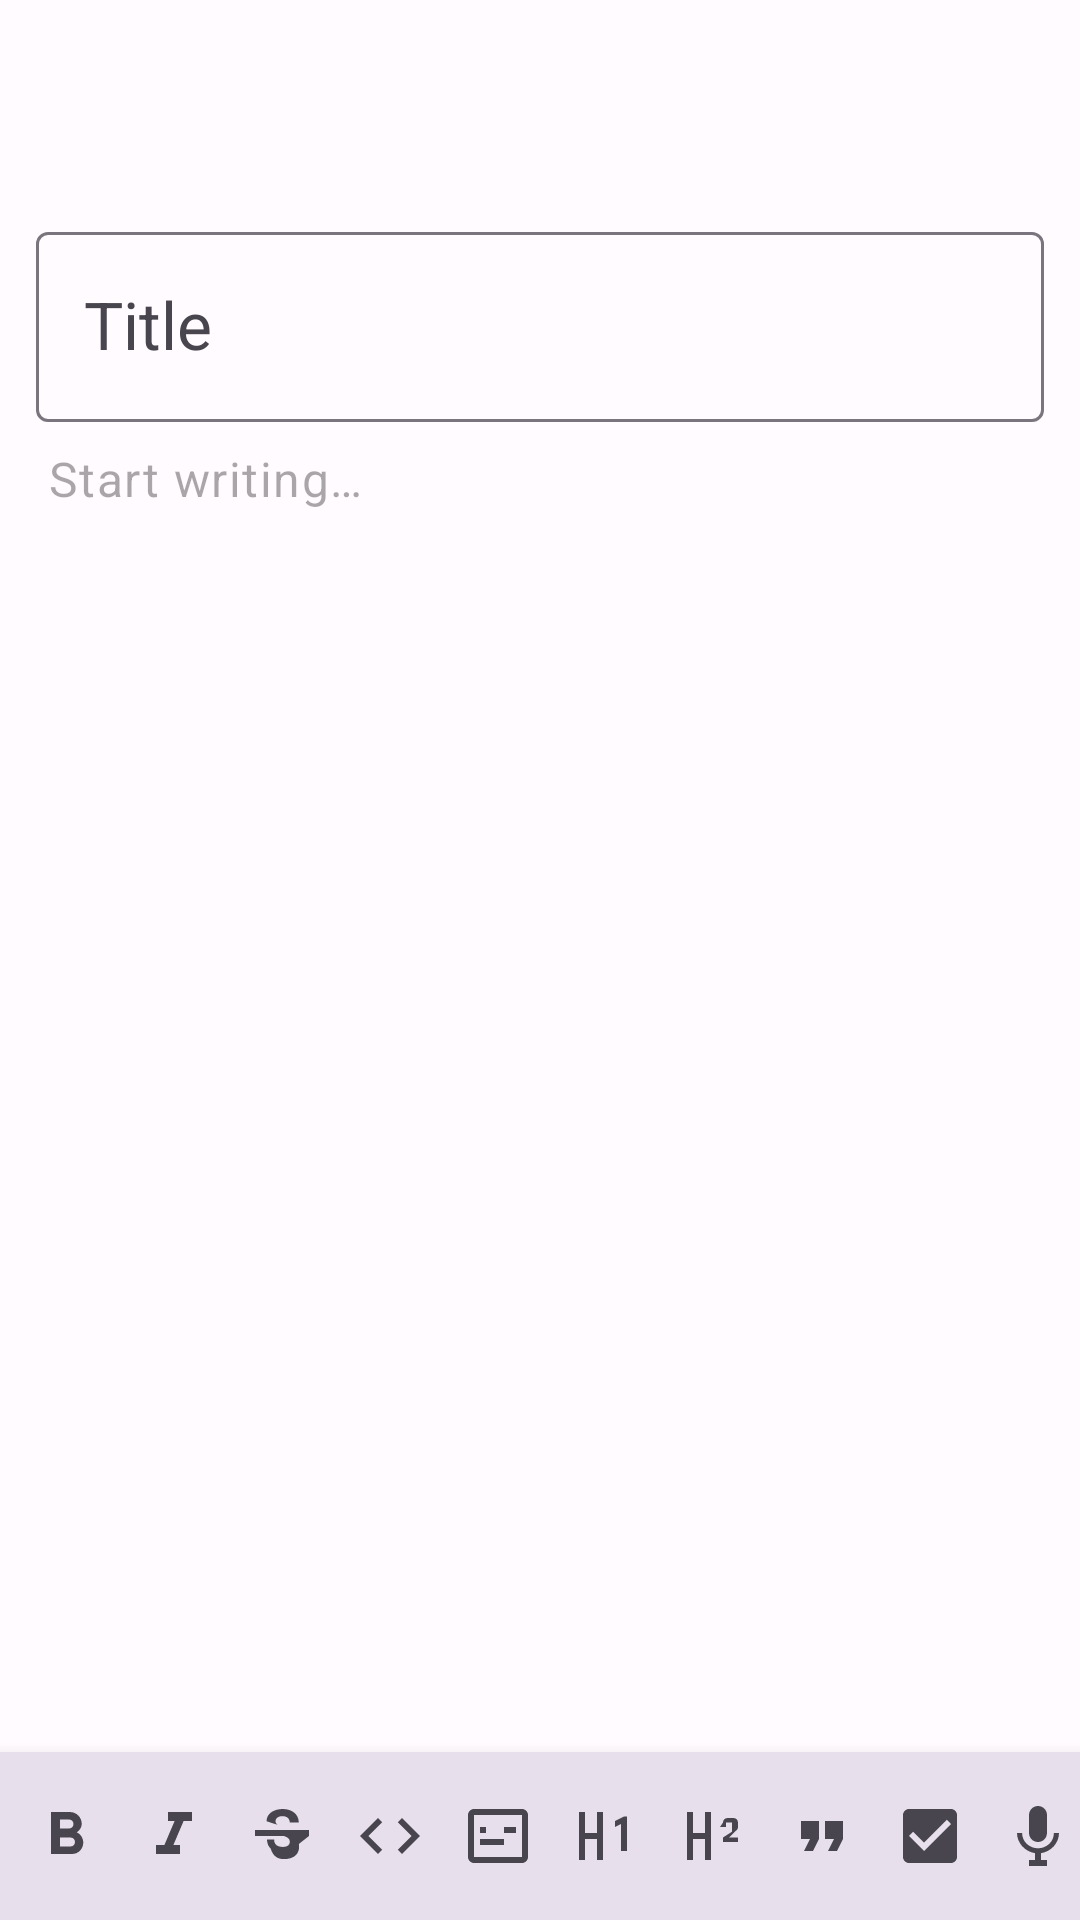

Named icons in this screenshot (1080*1920) and their bounding boxes, (x1, y1, x2, y2):
Blockquote: (801, 1821, 843, 1851)
Bold: (51, 1812, 84, 1854)
Checklist: (903, 1809, 957, 1863)
Code block: (468, 1809, 528, 1863)
Inline code: (360, 1818, 420, 1854)
Italic: (156, 1812, 192, 1854)
Strikethrough: (255, 1809, 309, 1859)
